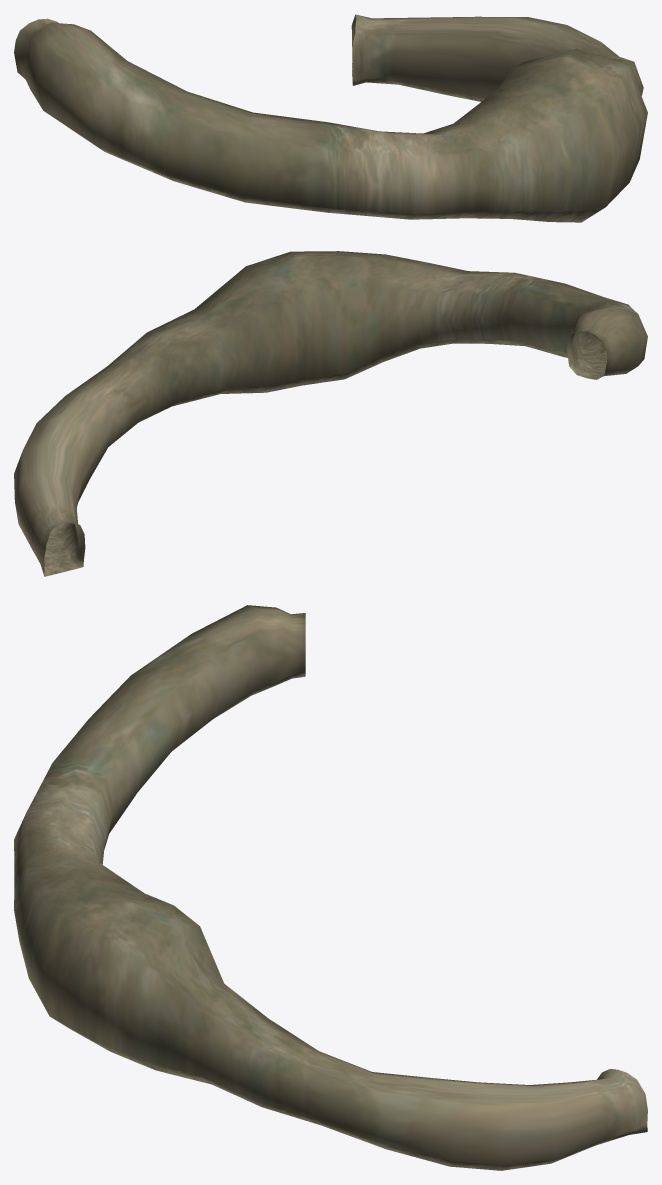
Rendered from EKH_JAIL_PS_JA_CAVERN_CAVE03938.fbx.
3 views of the same model, one above another, from view 1: azimuth 30°, elevation 25°; view 2: azimuth 150°, elevation 25°; view 3: azimuth 270°, elevation 25° (orthographic). The views are drawn at different scales.
Parts seen in each view (by area): view 1: EKH_JAIL_PS_JA_CAVERN_CAVE03938; view 2: EKH_JAIL_PS_JA_CAVERN_CAVE03938; view 3: EKH_JAIL_PS_JA_CAVERN_CAVE03938.
Boxes of the visible parts, bbox=[...] form: EKH_JAIL_PS_JA_CAVERN_CAVE03938: bbox=[14, 14, 647, 222]; EKH_JAIL_PS_JA_CAVERN_CAVE03938: bbox=[14, 251, 647, 576]; EKH_JAIL_PS_JA_CAVERN_CAVE03938: bbox=[14, 605, 647, 1170].
Size of the model in its own units: 277049 by 123452 by 242399.
Materials: 1 (1 with a texture image).
